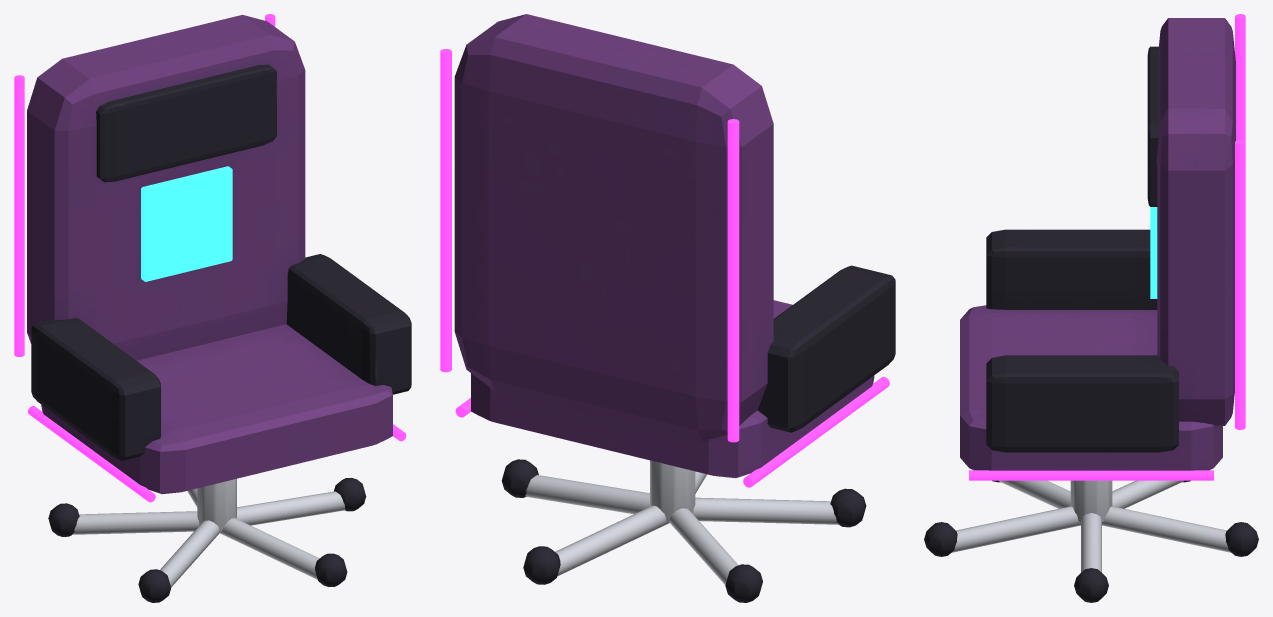
Rendered from chair.glb.
3 renders of one model, left to right at view 1: azimuth 30°, elevation 25°; view 2: azimuth 150°, elevation 25°; view 3: azimuth 270°, elevation 25°, orthographic. The views are drawn at different scales.
Visible parts, largest first — view 1: body; view 2: body; view 3: body.
Part boxes in pixels (<box>): body: <box>14,14,411,602</box>; body: <box>440,14,895,602</box>; body: <box>924,14,1258,602</box>.
Bounding box in the file's own units: 2 × 2.97 × 1.91.
Materials: 3 (1 with a texture image).
